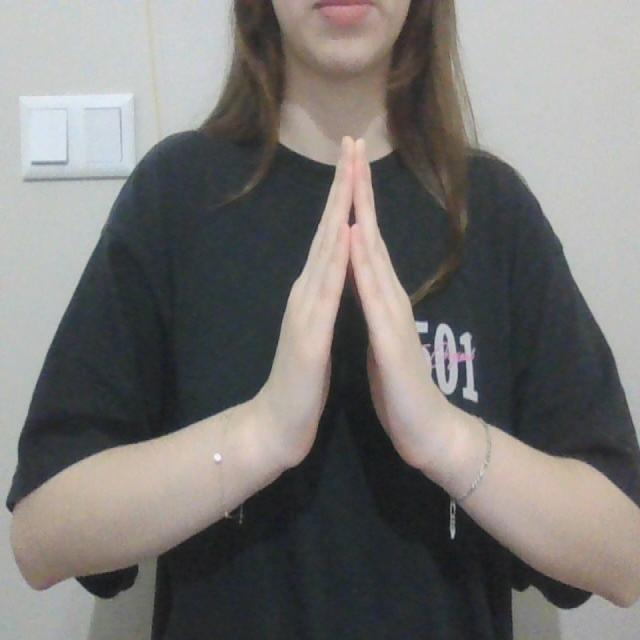Ev: (252, 132, 466, 497)
